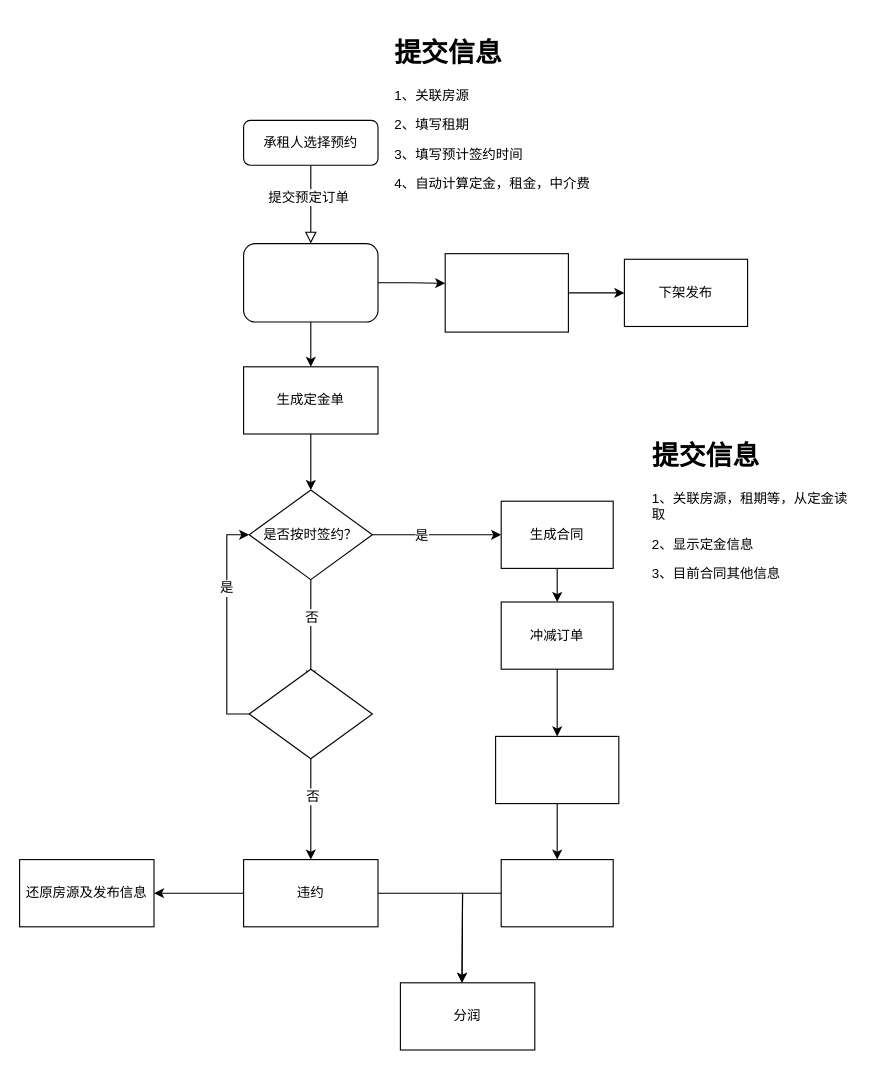
Image size: 879x1070. Some labels were removed from this diagram. The shapes that lost their labels are listed below. From the top down, each one's centre as x and y in pixels, then its label:
the point at 310,282: 在线支付
the point at 506,292: 锁定房源
the point at 310,713: 是否申请延期？
the point at 556,769: 生成中介费订单
the point at 556,892: 支付完成签约
